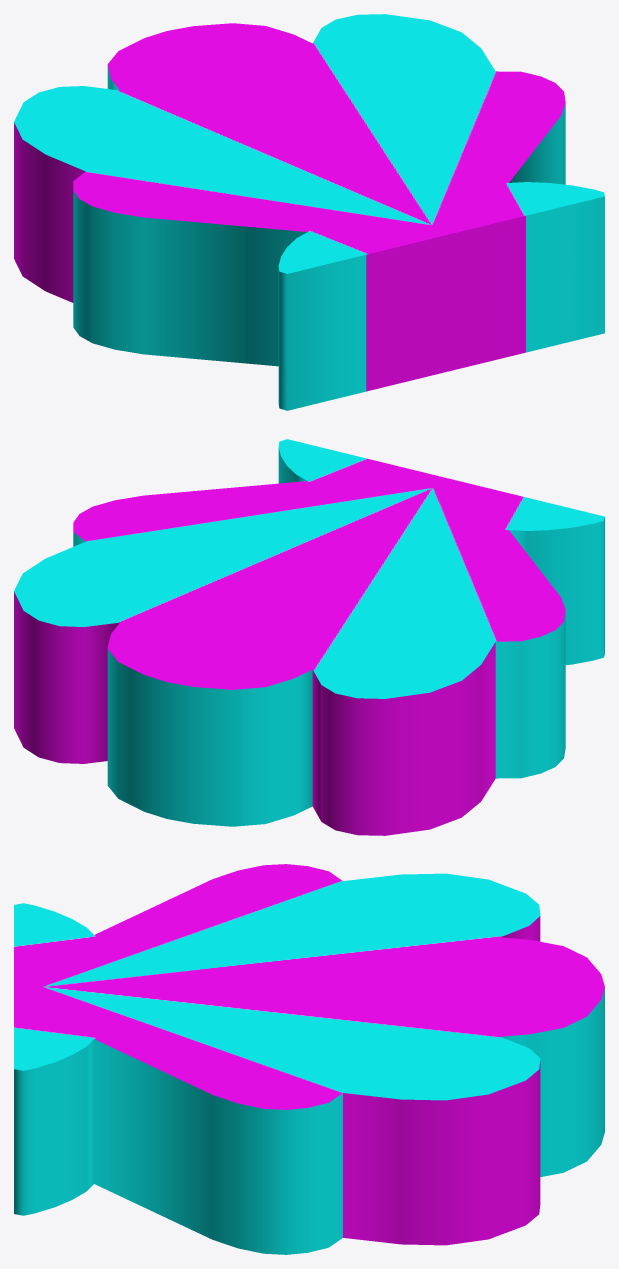
Rendered from Seashell.FBX.
3 renders of one model, top to bottom at view 1: azimuth 30°, elevation 25°; view 2: azimuth 150°, elevation 25°; view 3: azimuth 270°, elevation 25°, orthographic. The views are drawn at different scales.
Visible parts, largest first — view 1: seashell; view 2: seashell; view 3: seashell.
Boxes of the visible parts, box(x1,y1,x2,y2) form: seashell: box(14, 14, 604, 410); seashell: box(14, 439, 604, 835); seashell: box(14, 864, 604, 1254).
Size of the model in its own units: 61.54 by 16.91 by 62.5.
1 material, 1 textured.
